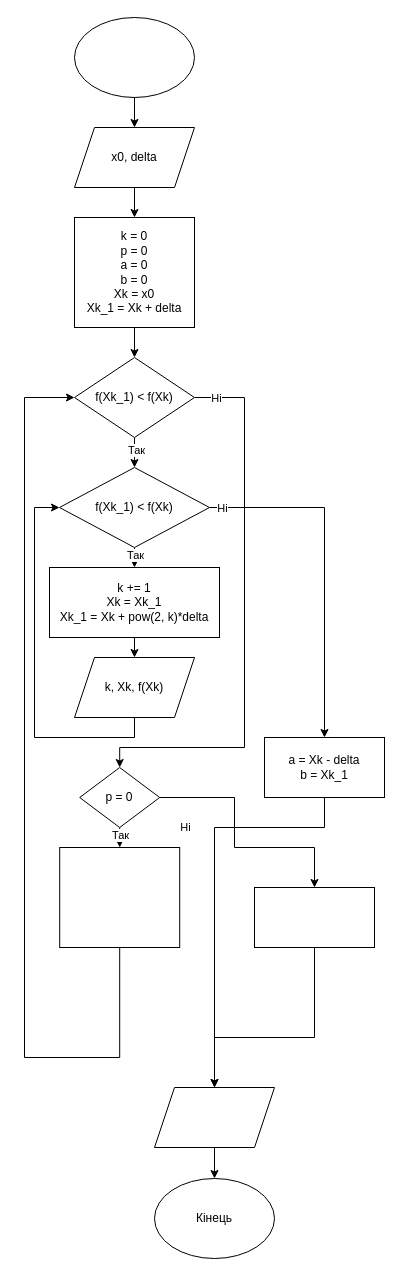
This 402x1276 diagram has some shape labels left out. Here are the shapes that lost their labels. From the top down, the centre of each, then its label:
At pixel 134 57: "Початок".
At pixel 119 897: "delta = -delta p = 1 Xk_1 = Xk + delta u = f(Xk) v = f(Xk_1)".
At pixel 314 917: "a = x0 + delta b = x0 - delta".
At pixel 214 1117: "a, b".
